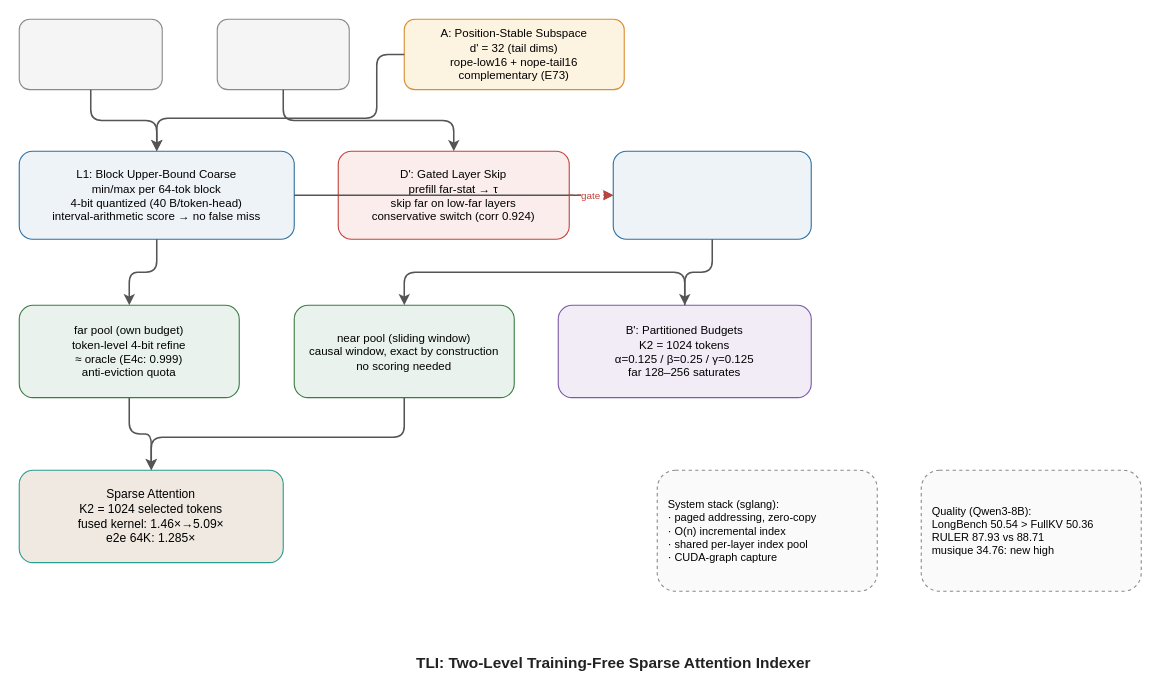
This 1161x699 diagram has some shape labels left out. The shapes that lost their labels are listed below. From the top down, each one's centre as x and y in pixels, then its label:
the point at 90,54: KV Cache [S, H_kv, 128] S up to 131K
the point at 282,54: Query q GQA: H = 4·H_kv
the point at 711,194: Top-K1 = 128 blocks (upper-bound scores)
